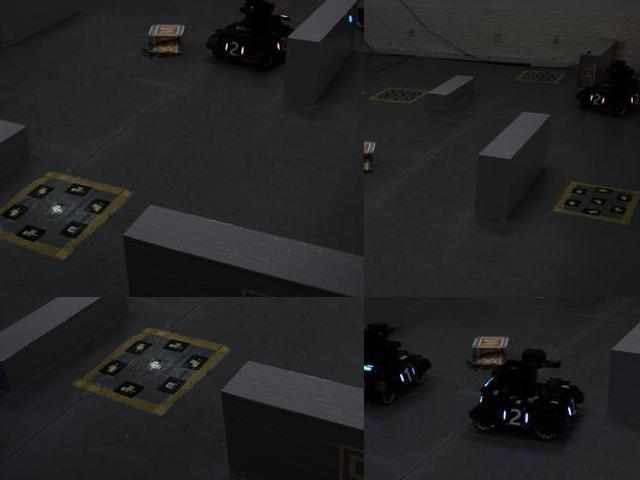armor: (497, 403, 533, 433), (392, 362, 419, 388), (220, 38, 249, 61), (560, 393, 580, 423), (273, 33, 293, 56), (588, 88, 606, 109), (629, 90, 639, 110)
